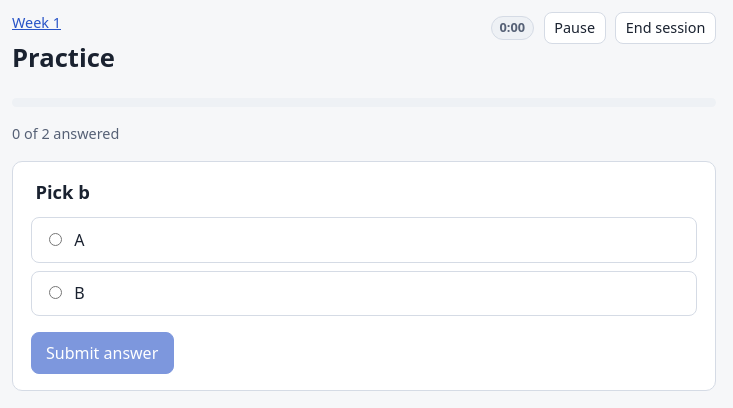
Scenario: PlayScreen › ends the session after confirmation and shows the summary
The image size is (733, 408).
Click the button "End session": (666,28) [615,12,716,44]
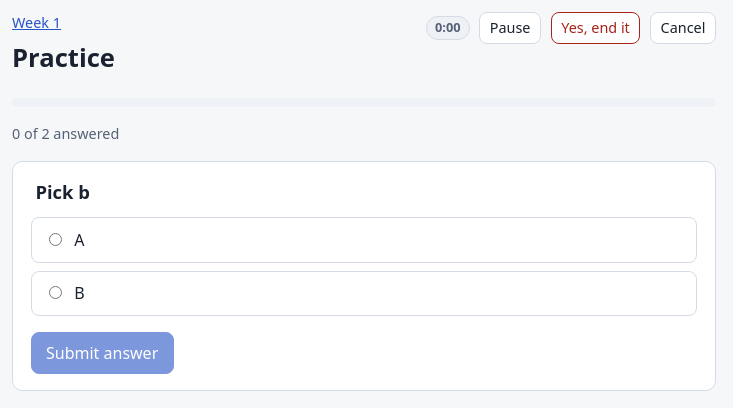
Now the button "Yes, end it" is shown
Click the button "Yes, end it": (596,28) [551,12,640,44]
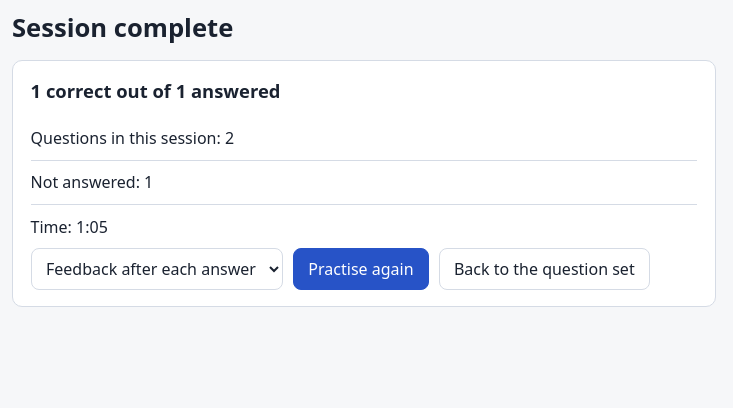
Now the text "1 correct out of 1 answered" is shown, box [31,78,280,103]
Now the list item "Time: 1:05" is shown, box [31,204,697,248]
